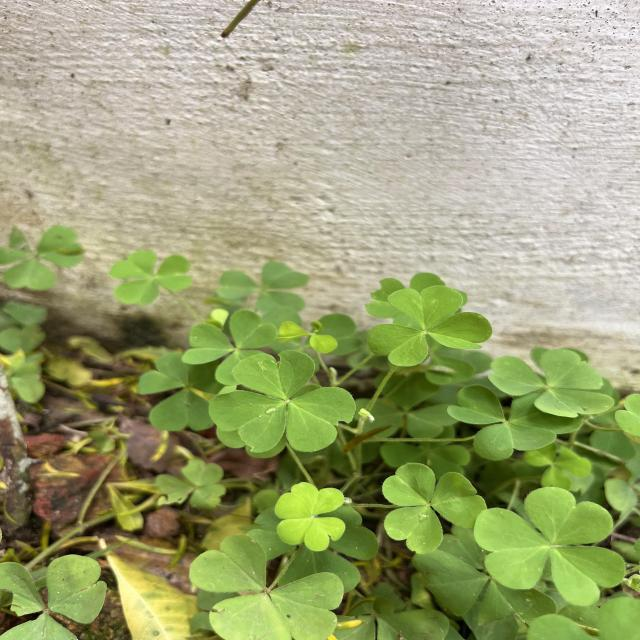Oxalis corniculata: (472, 484, 628, 608), (188, 532, 345, 640), (206, 348, 358, 456), (380, 457, 490, 556), (365, 284, 493, 368), (0, 551, 109, 640), (486, 348, 624, 418), (180, 309, 280, 385), (272, 478, 352, 550), (109, 247, 197, 308)
